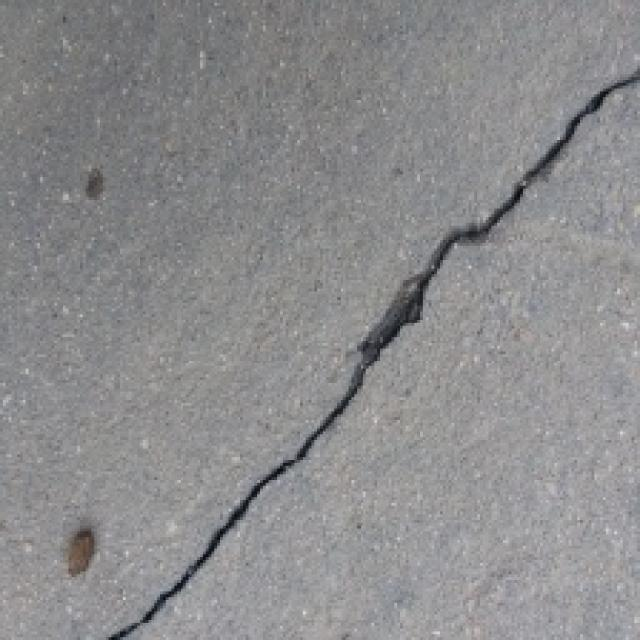crack: (62, 46, 640, 640)
